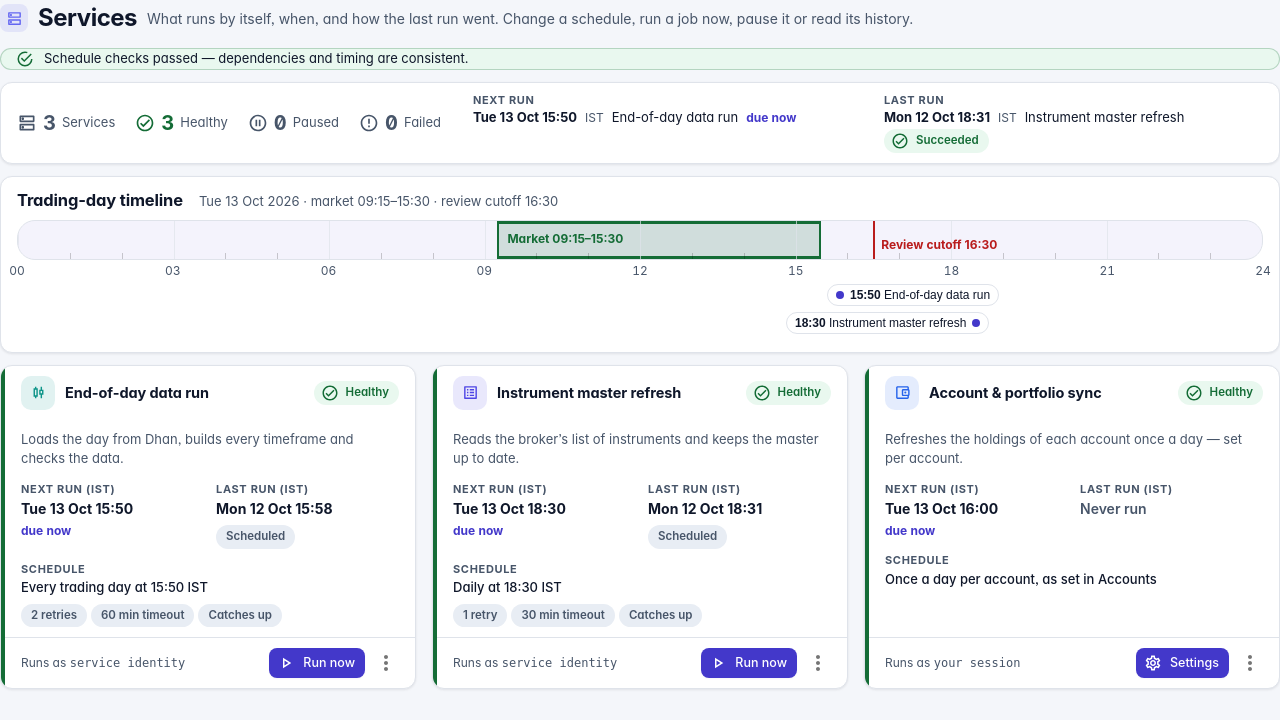
Test: Configure: what the dialog starts with › shows the words and the next three runs for what is stored, in India time
Click the button named "Actions for End-of-day data run". click: (386, 663)
box: x1=369 y1=646 x2=403 y2=680
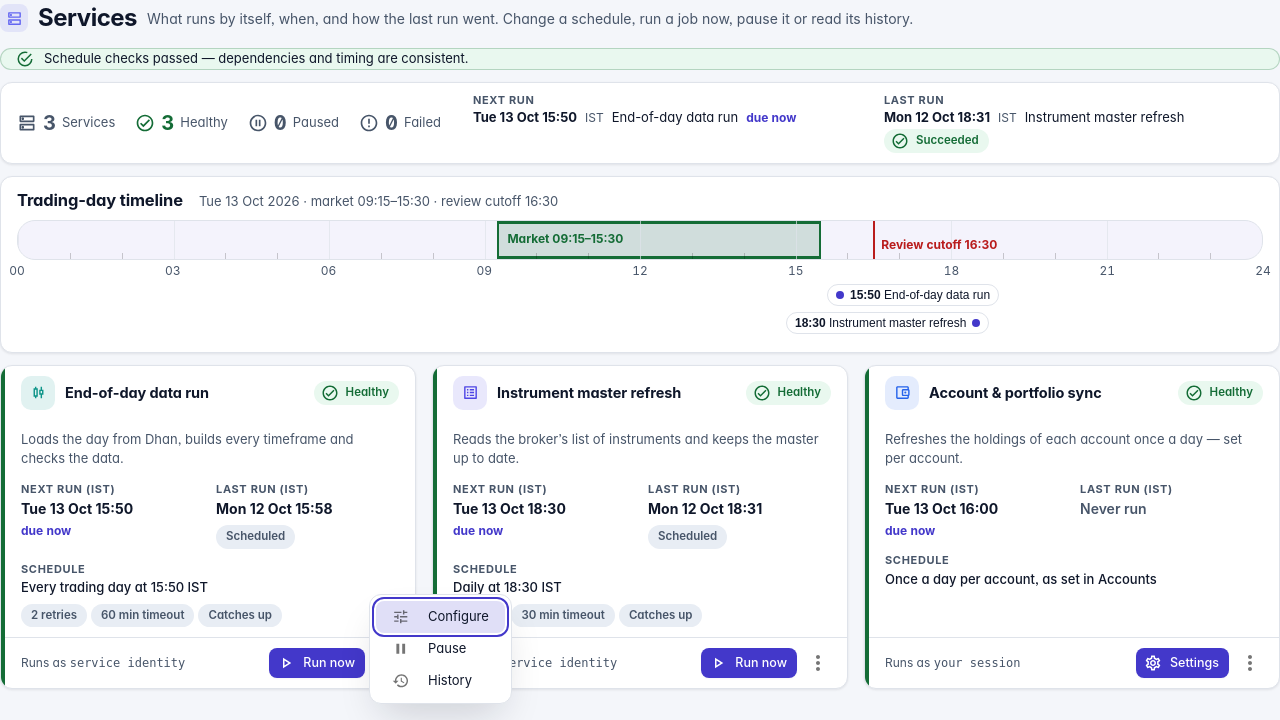
Click the menu item "Configure". click: (440, 617)
box: x1=376 y1=601 x2=505 y2=633
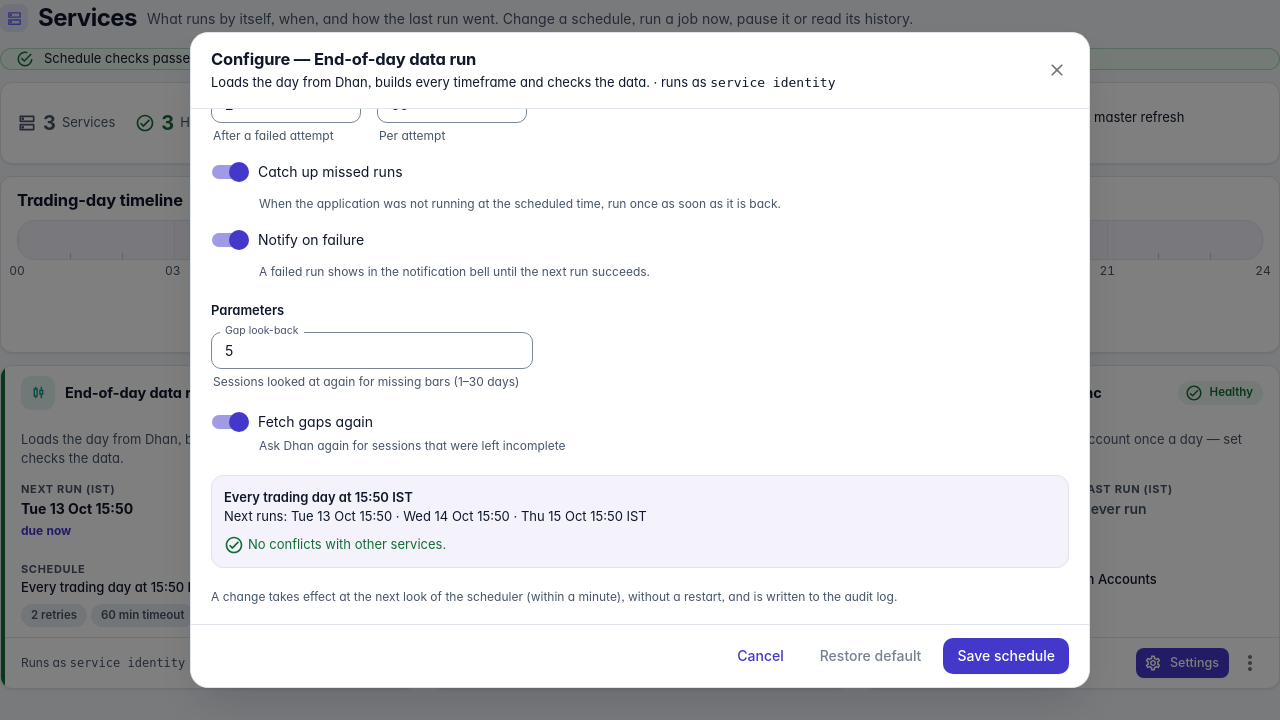
Check: the text "Every trading day at 15:50 IST" is shown, box x1=224 y1=489 x2=413 y2=505
Check: the text "No conflicts with other services." is shown, box x1=224 y1=535 x2=446 y2=555
